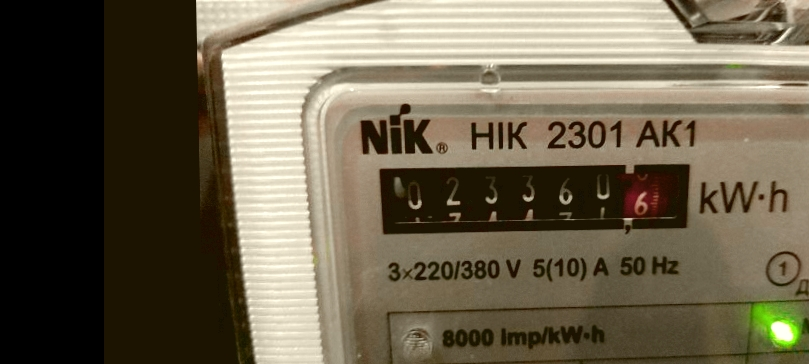0: (404, 177, 425, 211), (595, 170, 612, 201)
2: (442, 173, 465, 208)
3: (480, 173, 501, 205), (519, 171, 538, 202)
6: (555, 173, 575, 206), (630, 187, 652, 216)
screen: (361, 145, 705, 249)
